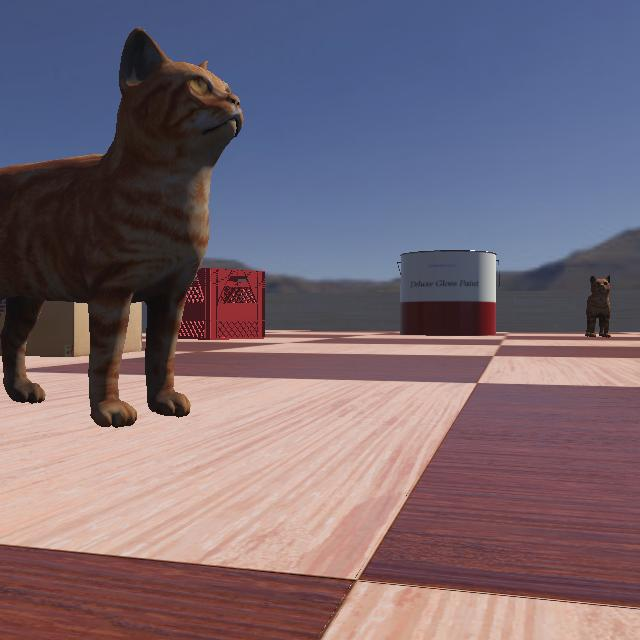cat: (0, 12, 272, 434), (0, 12, 272, 434), (0, 12, 272, 434), (560, 273, 630, 337), (560, 273, 630, 337), (560, 273, 630, 337), (560, 273, 630, 337)
paint-bucket: (391, 250, 521, 336), (391, 250, 521, 336)
plastic-crate: (158, 267, 268, 339)
